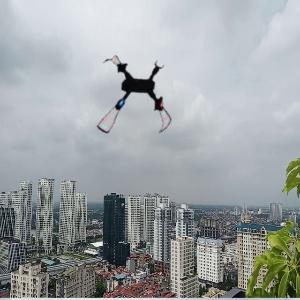drone: (86, 52, 181, 147)
